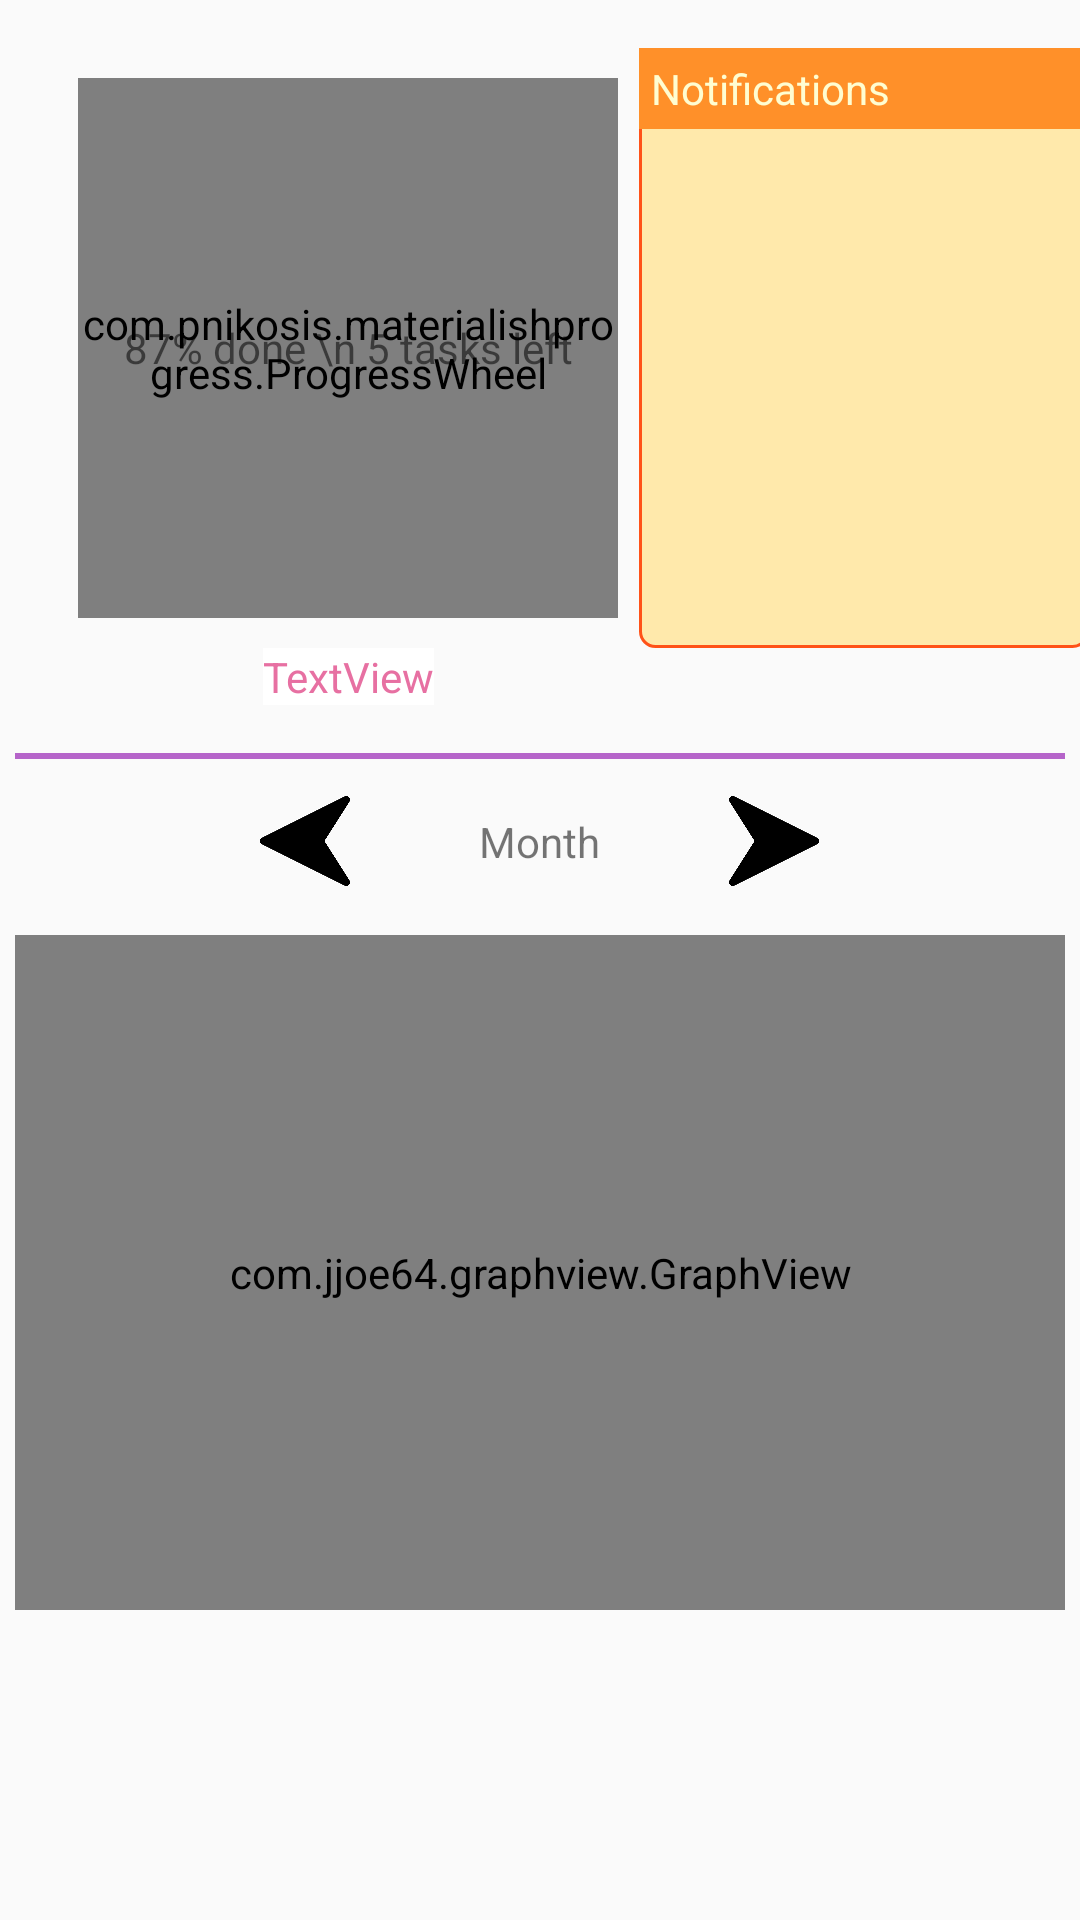

Icons on this 1080*1920 Android screen, each with the point to tap as point (x, y):
next style: point (774, 841)
prev style: point (305, 841)
